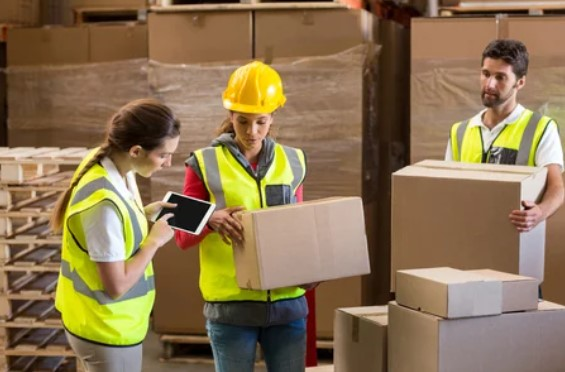stock: (389, 162, 547, 281), (232, 197, 370, 288)
worker: (56, 99, 179, 347), (192, 64, 306, 299), (450, 40, 552, 166)
